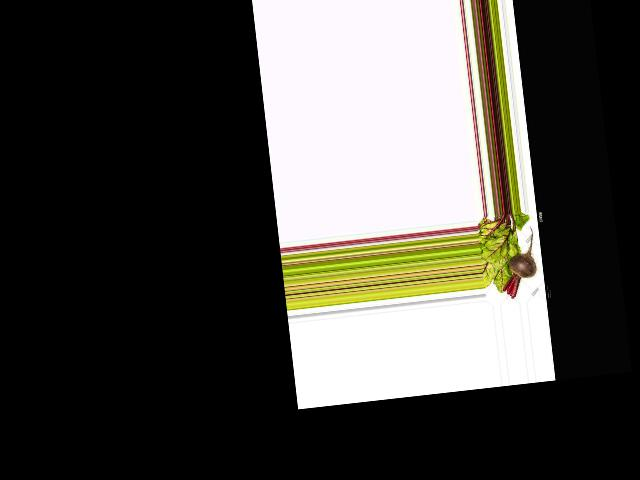beet: (496, 226, 540, 299)
